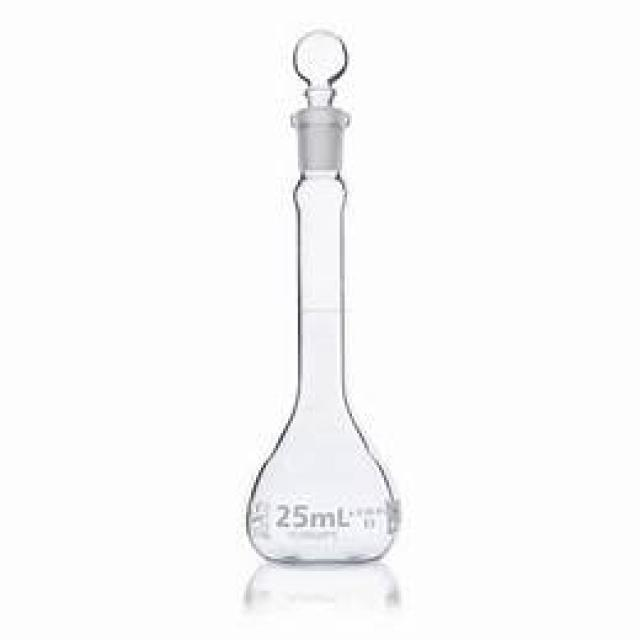Volumetric flask: (221, 30, 408, 562)
